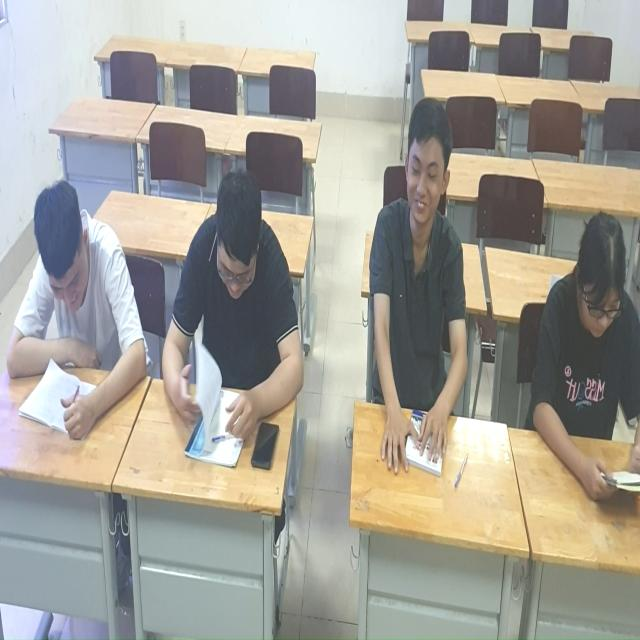read: (356, 89, 499, 502), (161, 149, 322, 483), (6, 156, 156, 461), (514, 204, 640, 502)
